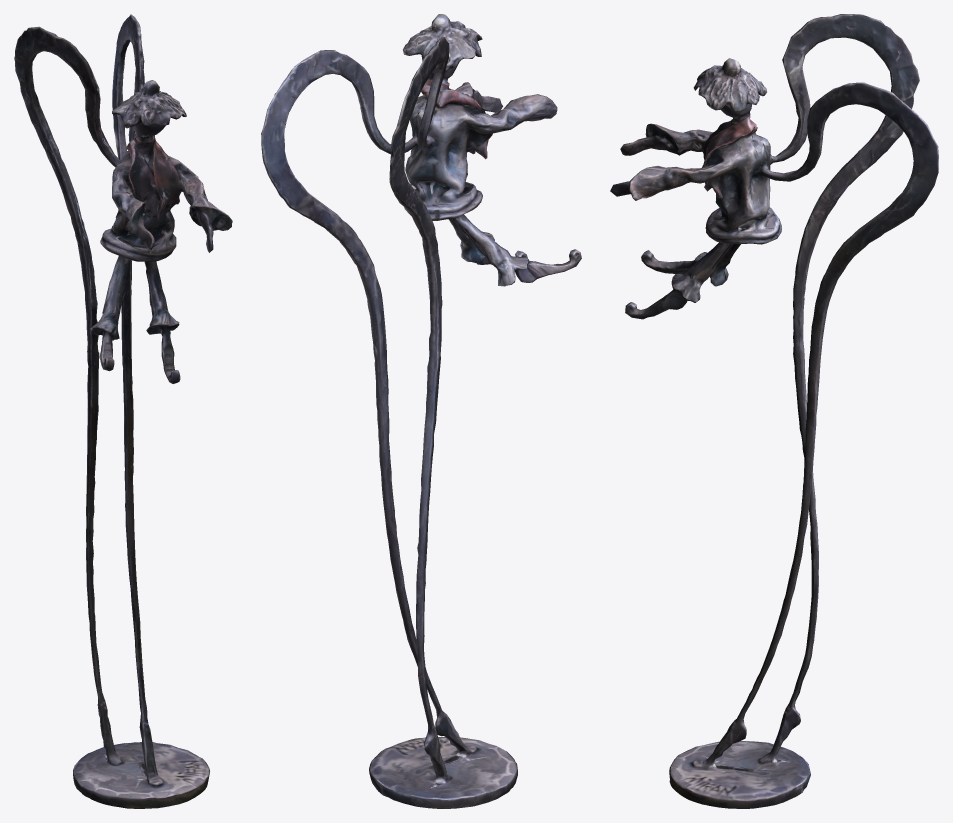
Rendered from wing-feet.glb.
3 renders of one model, left to right at view 1: azimuth 30°, elevation 25°; view 2: azimuth 150°, elevation 25°; view 3: azimuth 270°, elevation 25°, orthographic. The views are drawn at different scales.
Parts seen in each view (by area): view 1: model.001; view 2: model.001; view 3: model.001.
Boxes of the visible parts, x1,y1,x2,y2 form: model.001: (14, 14, 232, 808); model.001: (261, 14, 581, 808); model.001: (610, 14, 938, 808).
Size of the model in its own units: 0.1128 by 0.5005 by 0.2004.
Materials: 1 (1 with a texture image).
